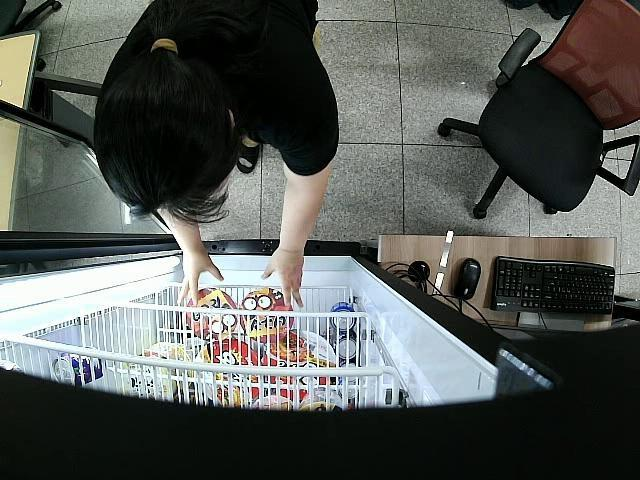05_nuguri_L: (240, 292, 296, 343), (182, 288, 236, 340)
